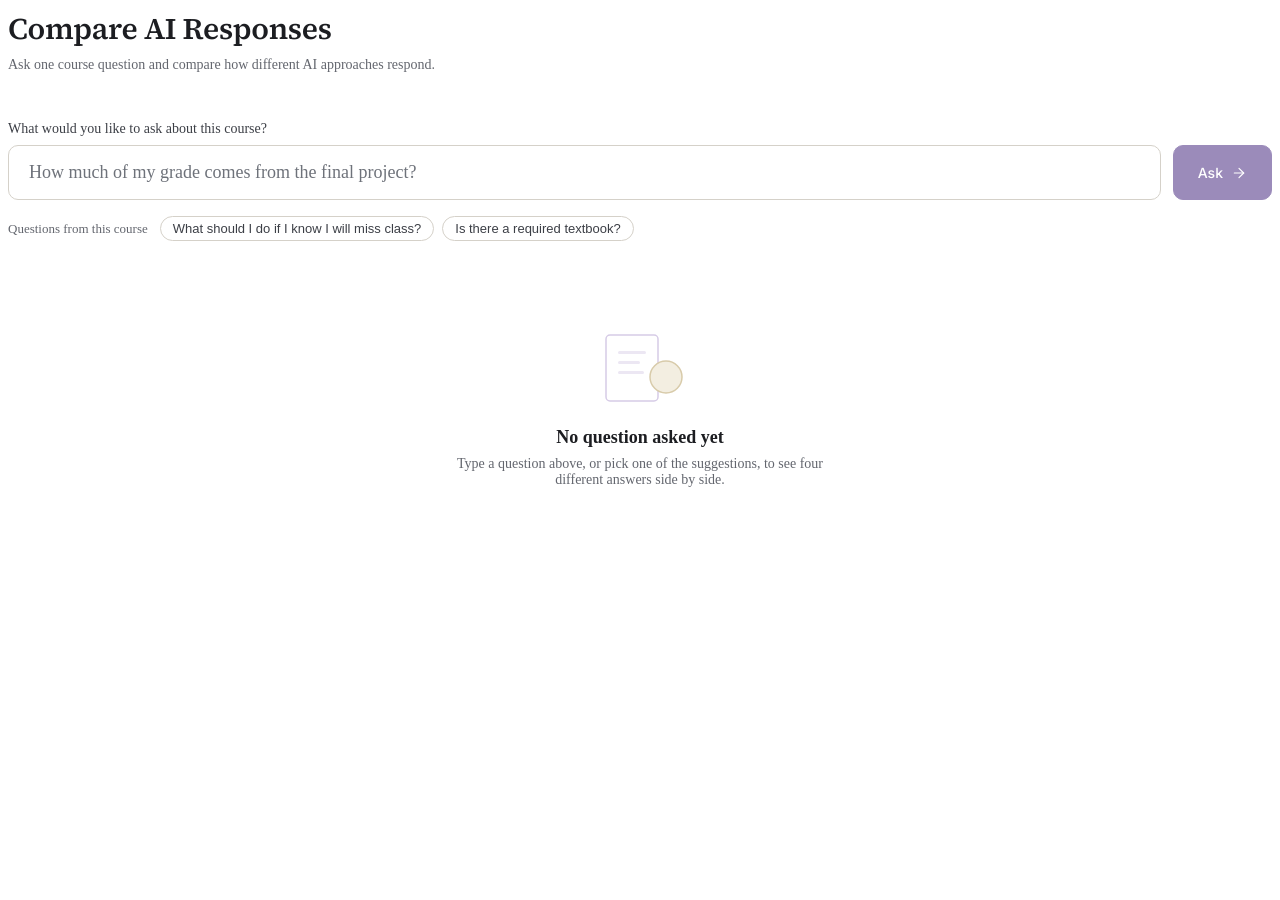
Test: ComparePage manual comparison runs › submits exactly the example question when its chip is clicked
Check: the button "What should I do if I know I will miss class?" is shown, box [160, 216, 434, 241]
Click the button "Is there a required textbook?" at (538, 228), box [442, 216, 634, 241]
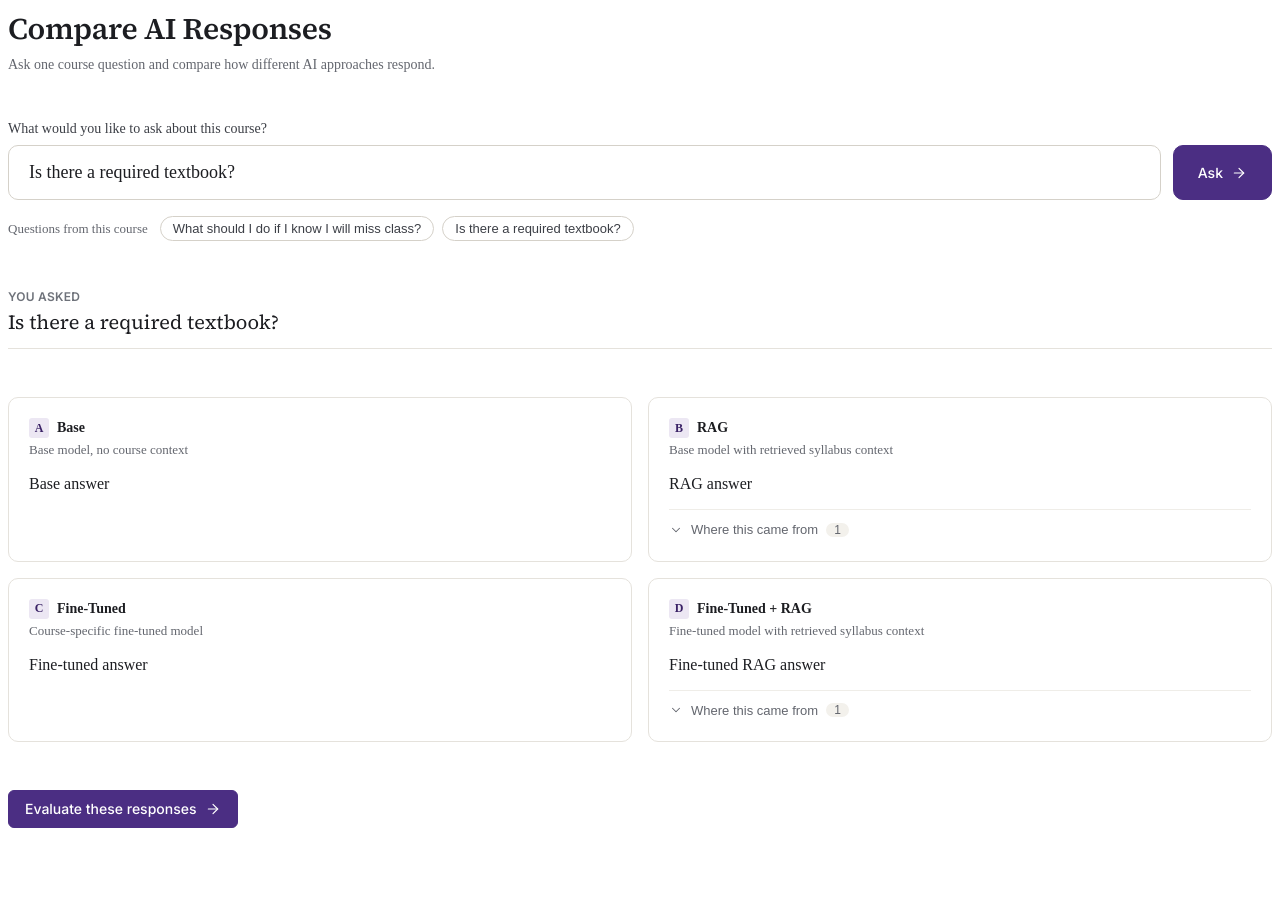
Check: the message named "Active question" shows "Is there a required textbook?", box [8, 308, 279, 336]
